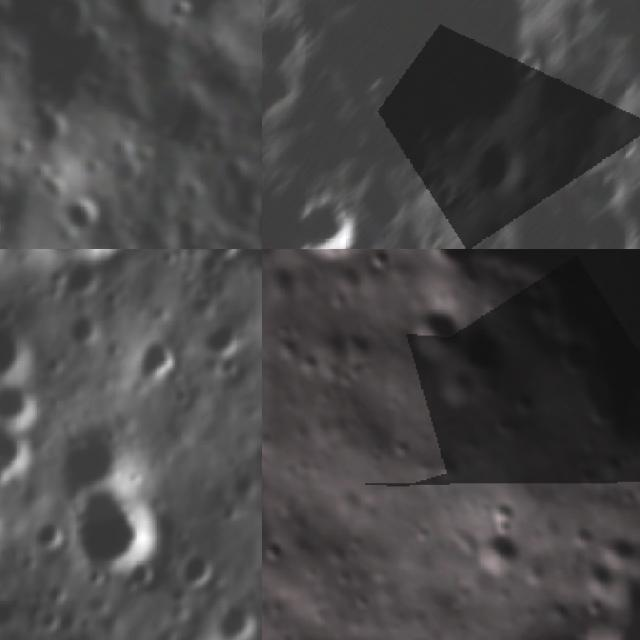crater: (316, 0, 527, 141), (70, 472, 178, 580), (504, 588, 640, 640), (52, 417, 132, 498), (440, 316, 515, 394), (455, 519, 531, 592), (395, 301, 466, 372), (466, 136, 532, 204), (532, 61, 594, 128), (262, 177, 317, 249), (301, 191, 363, 249), (581, 203, 640, 249), (20, 98, 74, 146), (181, 541, 230, 592), (262, 12, 307, 66), (57, 192, 104, 241), (262, 60, 299, 119), (212, 598, 262, 640), (136, 334, 174, 385), (0, 320, 27, 388), (0, 386, 45, 426), (0, 433, 39, 479), (201, 312, 241, 352), (65, 260, 103, 298), (35, 249, 146, 262), (512, 48, 550, 84), (161, 0, 201, 34), (66, 312, 100, 350), (31, 519, 67, 554), (220, 464, 260, 495), (201, 249, 235, 279), (431, 178, 460, 212), (99, 282, 132, 310), (35, 609, 63, 635), (42, 580, 68, 604), (43, 264, 64, 288), (0, 542, 20, 564), (218, 360, 241, 378)
